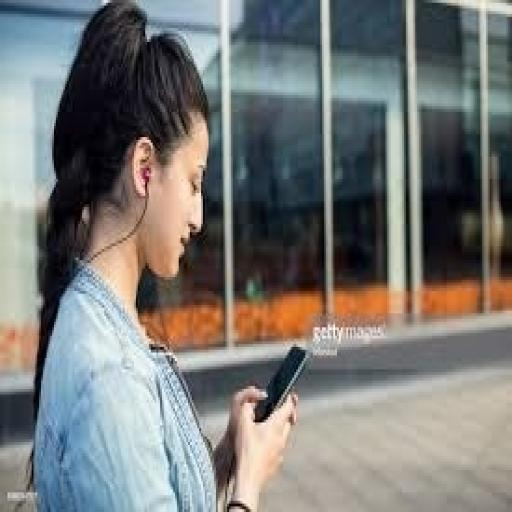listening_to_music: (28, 0, 302, 509)
